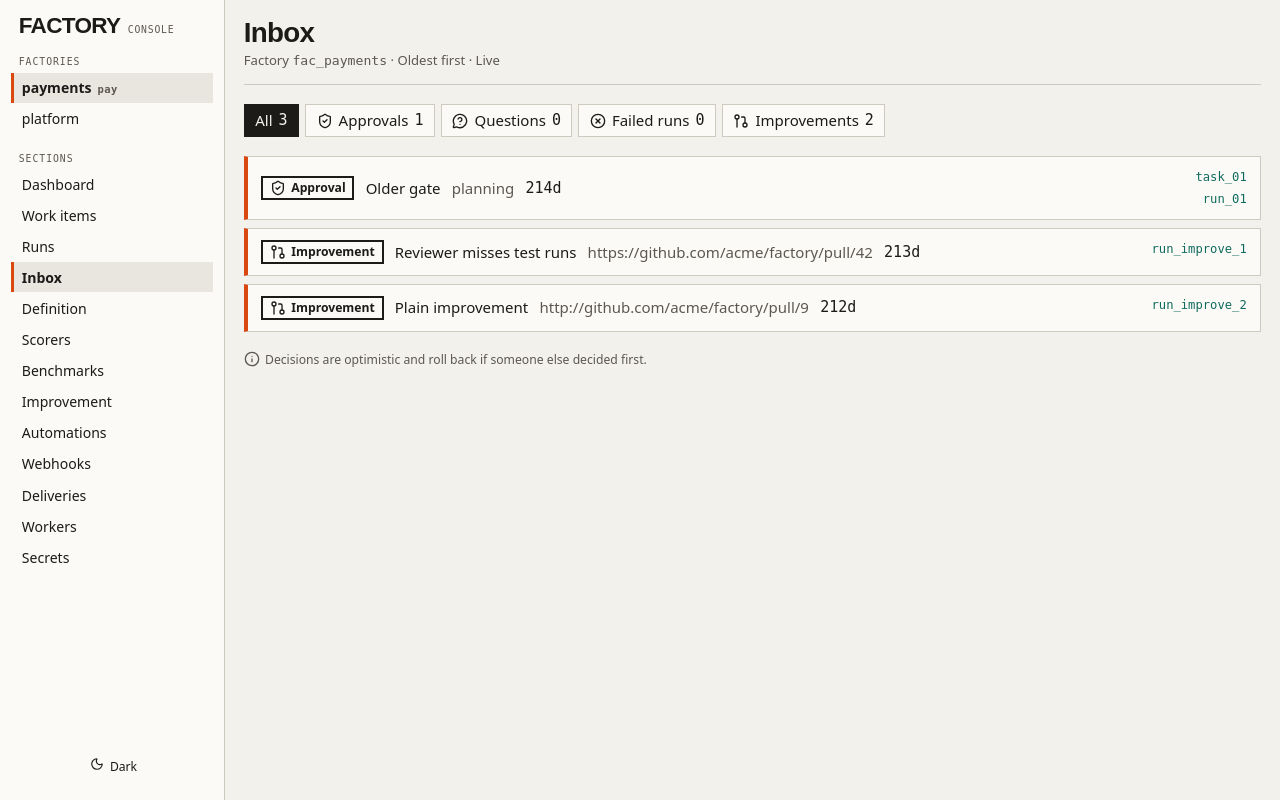
Test: inbox › keeps an improvement PR in oldest-first order with a Review PR link
Click the button "Reviewer misses test runs". click: (701, 252)
box: [261,240,1140,264]
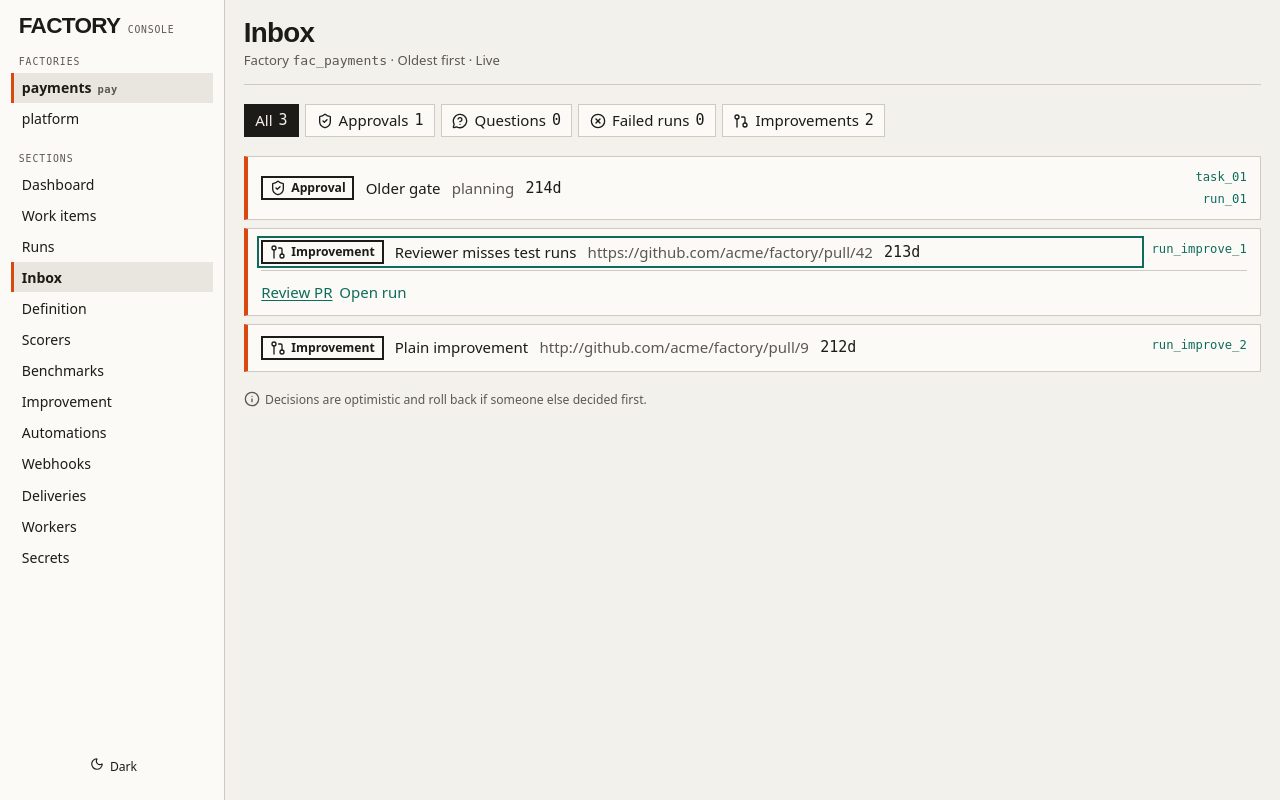
Now the element with id "inbox-body-ib_https" is shown, box [261,270,1247,304]
Click the button "Plain improvement". click: (701, 348)
box: [261,336,1140,360]
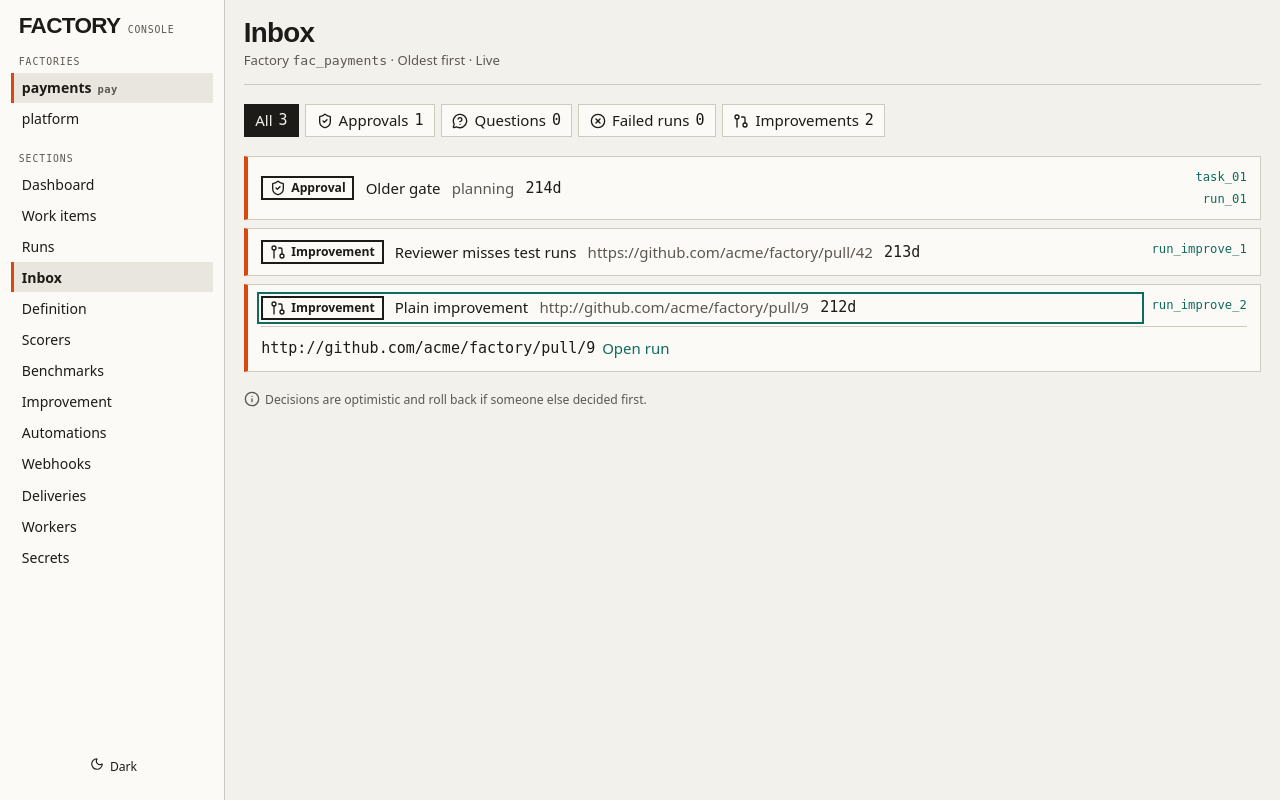
Now the element with id "inbox-body-ib_http" is shown, box [261,326,1247,360]
Now the text "http://github.com/acme/factory/pull/9" next to "Open run" is shown, box [261,339,595,357]
Now the link "Review PR" is gone
Click the button "Improvements 2". click: (804, 121)
box: [722,104,885,137]
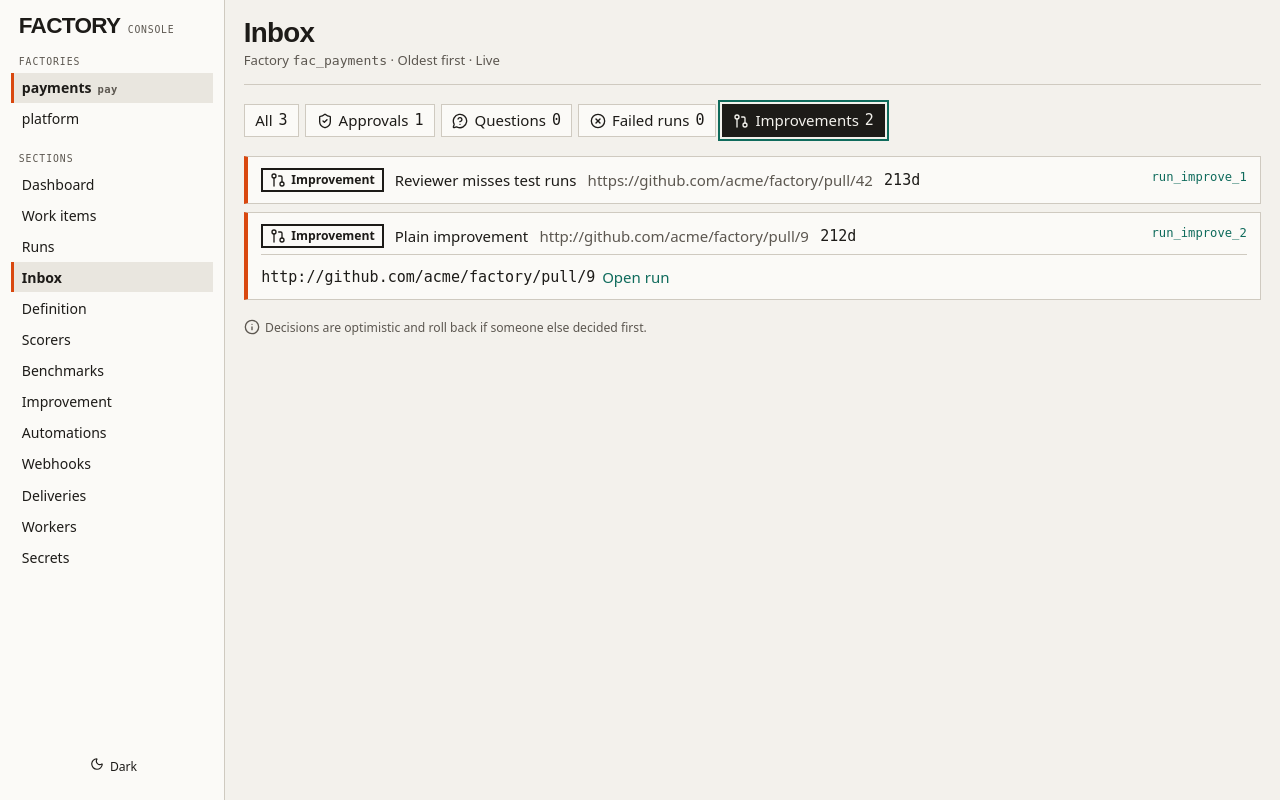
Expected: the text "Reviewer misses test runs" is shown, [395,169,576,192]
Now the button "Older gate" is gone
